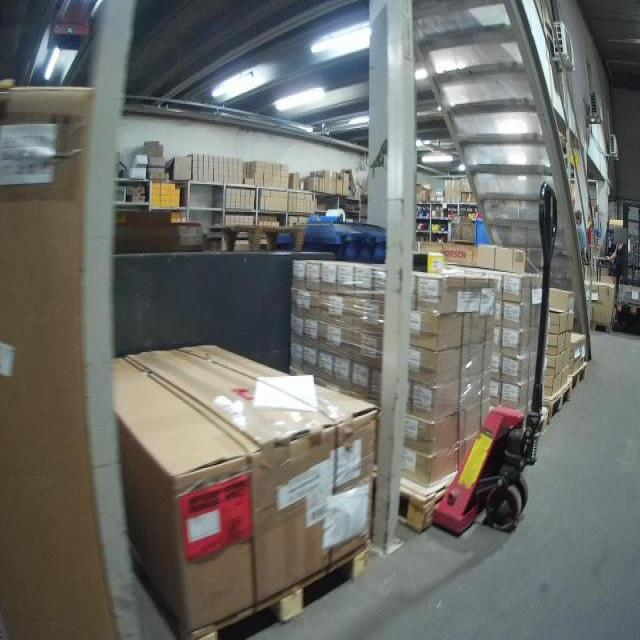pallet: (190, 546, 373, 640), (402, 491, 443, 535), (545, 385, 570, 422), (570, 362, 588, 391), (616, 302, 640, 315)
pallet_truck: (420, 175, 569, 538), (609, 193, 638, 328)
